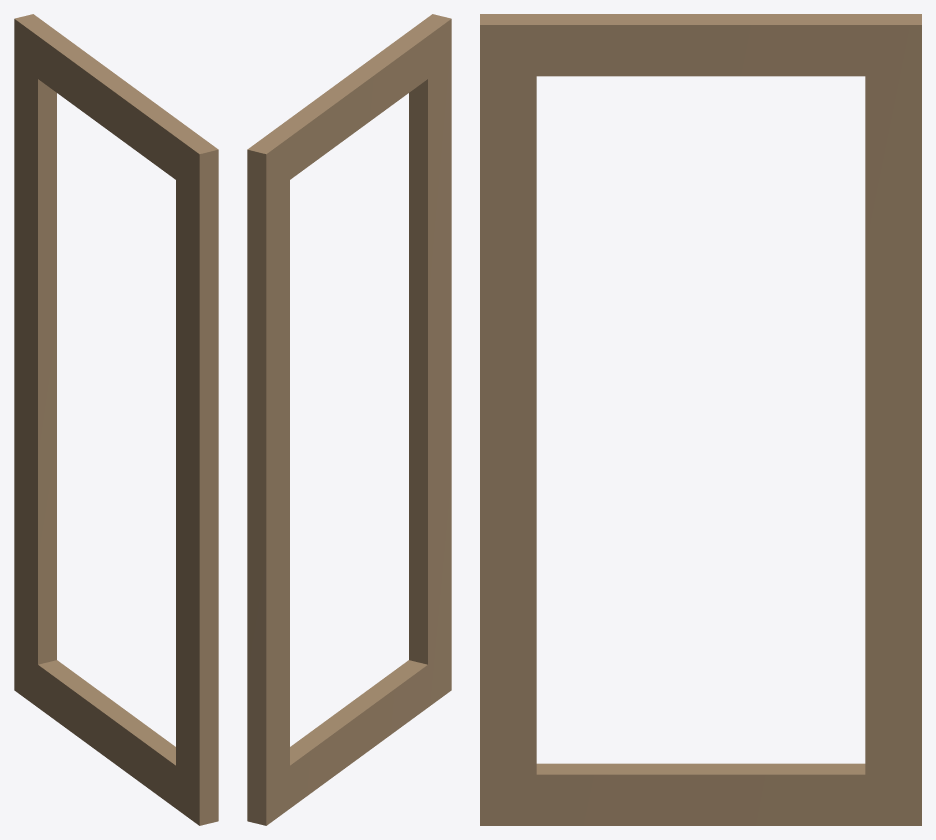
File: Glass_Door.glb
3 renders of one model, left to right at view 1: azimuth 30°, elevation 25°; view 2: azimuth 150°, elevation 25°; view 3: azimuth 270°, elevation 25°, orthographic. The views are drawn at different scales.
Visible parts, largest first — view 1: Glass Door; view 2: Glass Door; view 3: Glass Door.
Boxes of the visible parts, box(x1,y1,x2,y2) form: Glass Door: box(14, 14, 218, 825); Glass Door: box(247, 14, 451, 825); Glass Door: box(480, 14, 921, 825).
Bounding box in the file's own units: 0.1191 × 4 × 2.
Materials: 1 (1 with a texture image).
